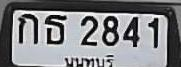1: (147, 17, 157, 47)
2: (80, 15, 97, 45)
4: (122, 15, 138, 46)
8: (101, 15, 118, 45)
A01: (17, 13, 37, 43)
A24: (44, 14, 66, 44)
NBI: (63, 51, 115, 67)
